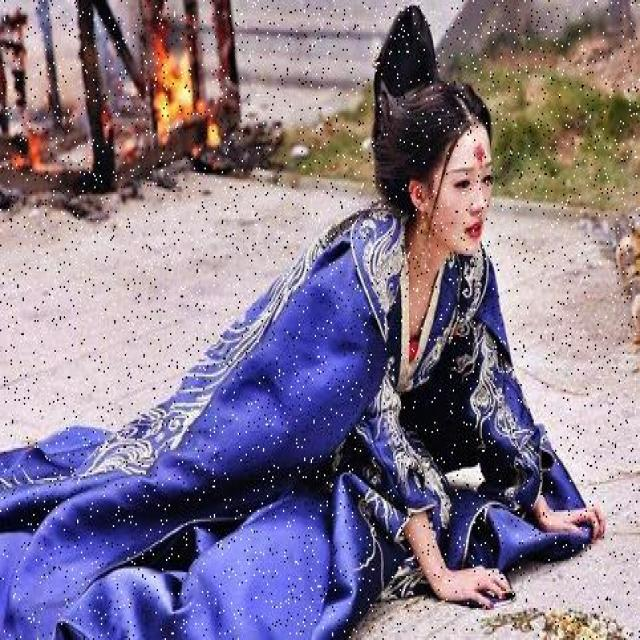fall: (33, 85, 564, 620)
